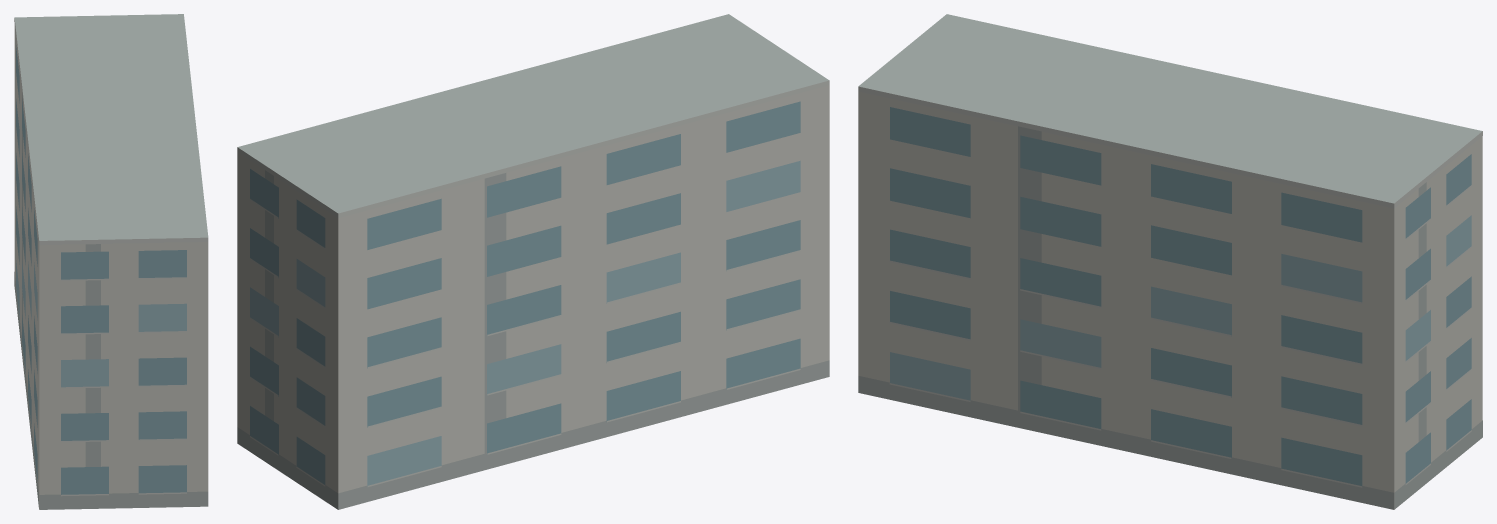
File: residential-3666dcbf-f601-419c-894a-60356b289185.glb
3 renders of one model, left to right at view 1: azimuth 30°, elevation 25°; view 2: azimuth 150°, elevation 25°; view 3: azimuth 270°, elevation 25°, orthographic. The views are drawn at different scales.
Visible parts, largest first — view 1: residential-3666dcbf-f601-419c-894a-60356b289185.tmp; view 2: residential-3666dcbf-f601-419c-894a-60356b289185.tmp; view 3: residential-3666dcbf-f601-419c-894a-60356b289185.tmp.
Boxes of the visible parts, bbox=[...] form: residential-3666dcbf-f601-419c-894a-60356b289185.tmp: bbox=[14, 14, 208, 509]; residential-3666dcbf-f601-419c-894a-60356b289185.tmp: bbox=[237, 14, 829, 509]; residential-3666dcbf-f601-419c-894a-60356b289185.tmp: bbox=[858, 14, 1482, 509].
Size of the model in its own units: 20.25 by 15.25 by 28.19.
